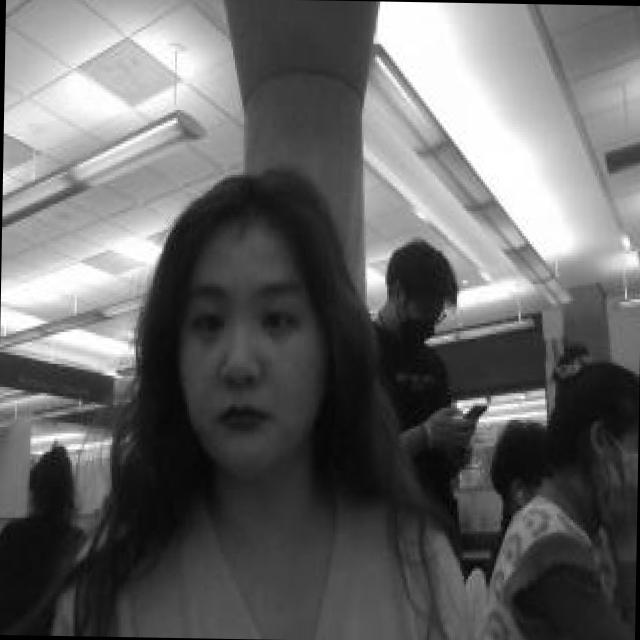Focused: (157, 209, 334, 481)
